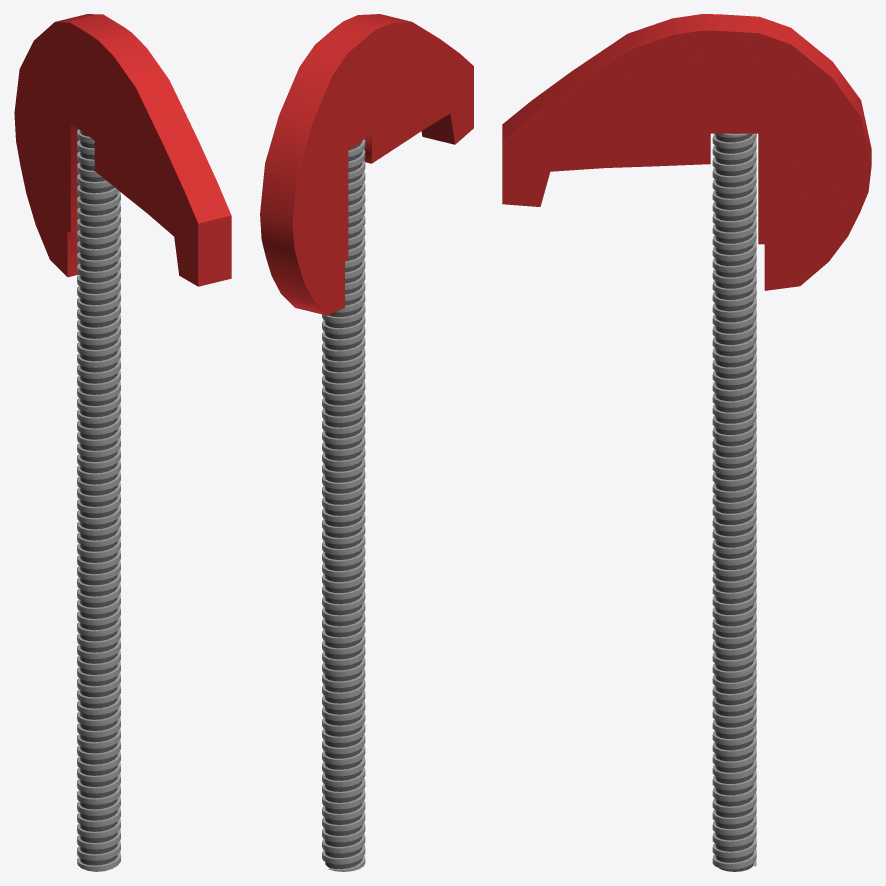
Rendered from end-pin.glb.
The picture shows the model from 3 angles, left to right: view 1: azimuth 30°, elevation 25°; view 2: azimuth 150°, elevation 25°; view 3: azimuth 270°, elevation 25°; orthographic projection.
Parts seen in each view (by area): view 1: end_pin_01; view 2: end_pin_01; view 3: end_pin_01.
Boxes of the visible parts, x1,y1,x2,y2 form: end_pin_01: (14,14,231,871); end_pin_01: (260,14,473,871); end_pin_01: (502,14,871,871).
Size of the model in its own units: 0.017 by 0.3583 by 0.1425.
1 material, 1 textured.
